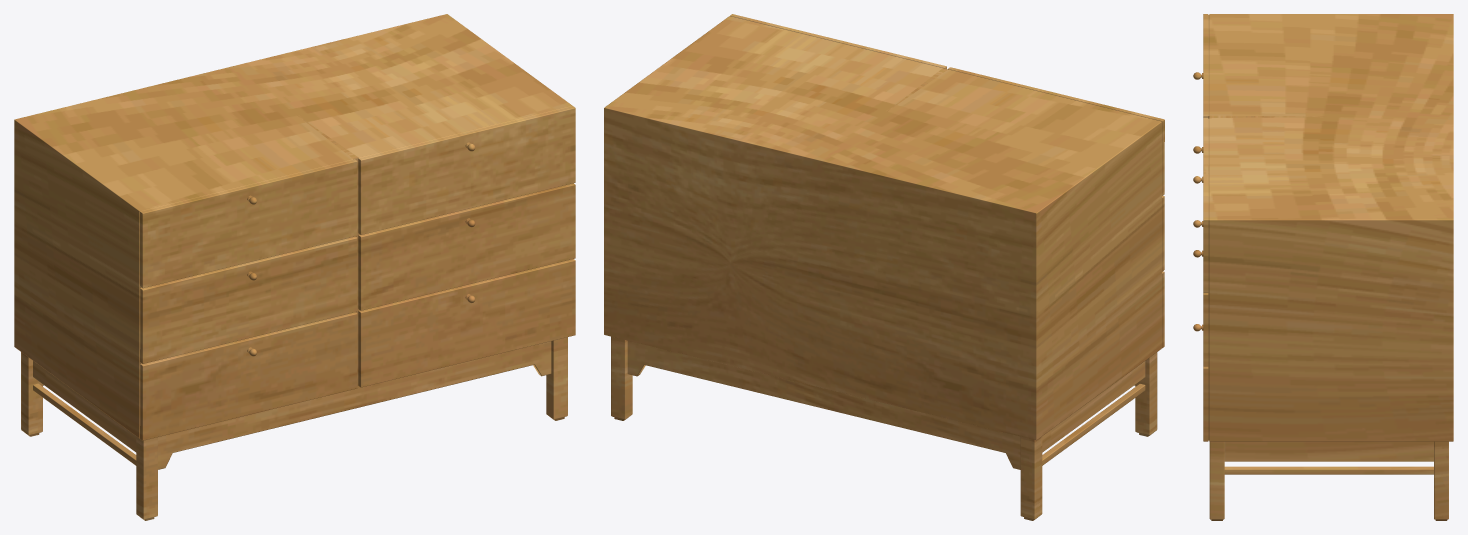
File: commode.fbx
The picture shows the model from 3 angles, left to right: view 1: azimuth 30°, elevation 25°; view 2: azimuth 150°, elevation 25°; view 3: azimuth 270°, elevation 25°; orthographic projection. The views are drawn at different scales.
Parts seen in each view (by area): view 1: node_id47; view 2: node_id47; view 3: node_id47.
Boxes of the visible parts, x1=… form: node_id47: x1=14, y1=14, x2=575, y2=520; node_id47: x1=604, y1=14, x2=1164, y2=520; node_id47: x1=1193, y1=14, x2=1453, y2=520.
Size of the model in its own units: 0.6226 by 0.4288 by 0.3325.
1 material, 1 textured.
